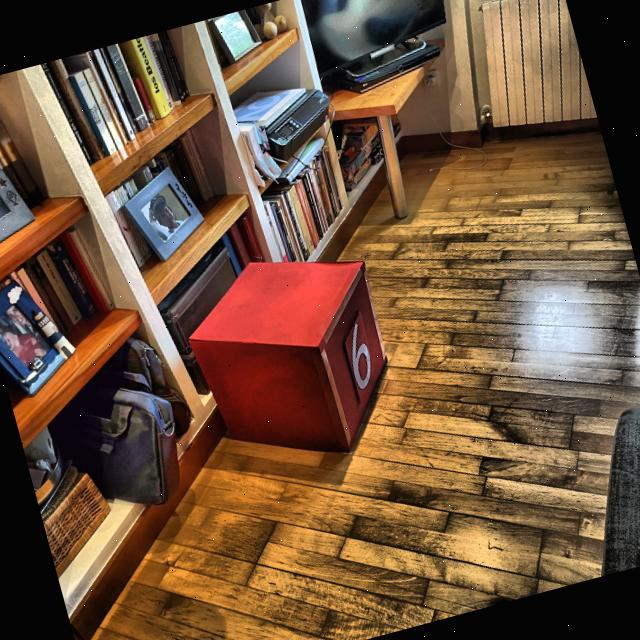red box: (176, 231, 408, 487)
six: (340, 317, 382, 394)
